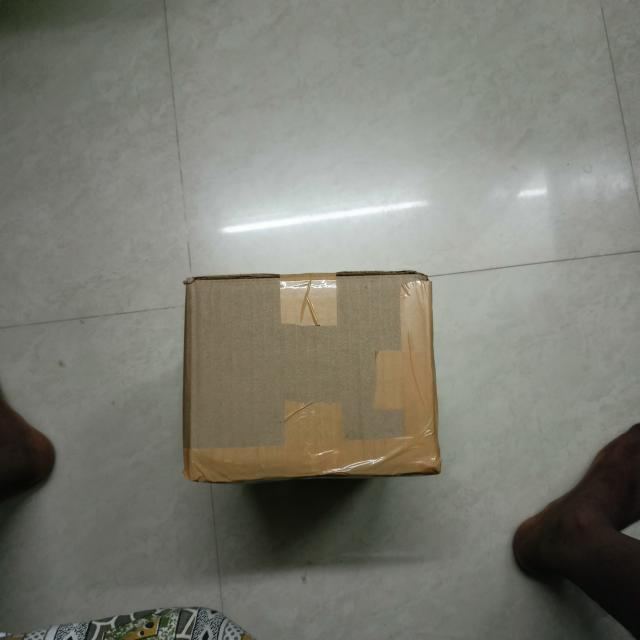box: (186, 277, 445, 478)
